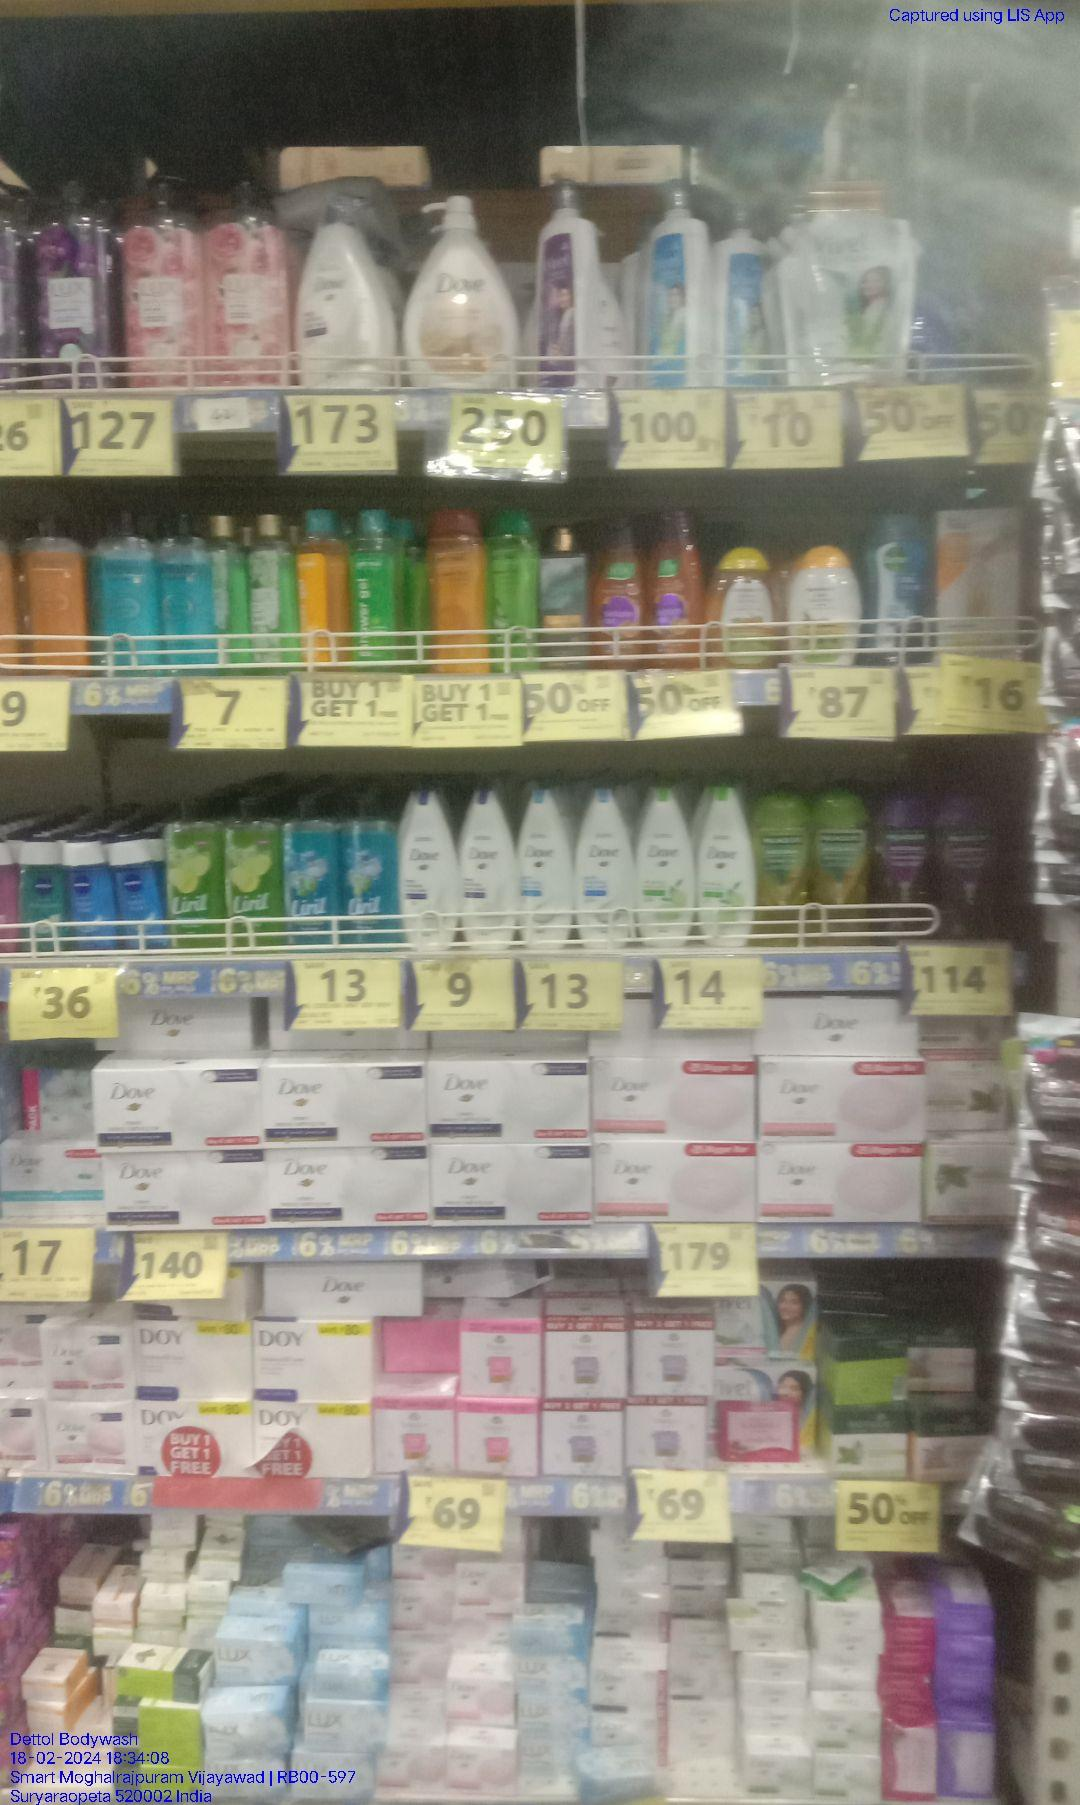Dettol_Bodywash_Cool: (865, 508, 933, 660)
Dove_Deep_Moisture_Body_Wash_250ML: (401, 787, 458, 953), (462, 788, 518, 950)
Dove_Gentle_Exfoliating_Body_Wash_250ML: (573, 787, 634, 951), (521, 788, 572, 947)
Dove_Refreshing_Body_Wash_250ML: (697, 786, 759, 946), (640, 788, 694, 947)
Get_Real_Shower_Gel_Moisturising_Glycerin_300ML: (429, 512, 485, 674)
Joy_Shower_Gel_Mandarin_and_Lemongrass_250ML: (645, 512, 706, 667), (594, 512, 642, 667)
Liril_Cooling_Mint_Body_Wash_250ML: (339, 795, 396, 945), (289, 800, 334, 953)
Liril_Lime_and_Tea_Tree_Oil_Body_Wash_250ML: (167, 806, 226, 950), (230, 804, 285, 951)
Lux_Body_Wash_Skin_Detox_Freesia_Scent_and_Alove_Vera_245ML: (249, 512, 296, 669)
Nivea_Shower_Gel_Frangipani_and_Oil_250ML: (21, 838, 68, 954)
Palmolive_Aroma_Morning_Tonic_Shower_Gel_250ML: (814, 793, 870, 942), (762, 797, 813, 949)
Palmolive_Aroma_Relax_250ML: (874, 793, 933, 938), (939, 793, 996, 938)
Pears_Pure_Glycerin_and_Mint_Extracts_Body_Wash_250ML: (96, 510, 157, 674), (161, 513, 215, 675)
